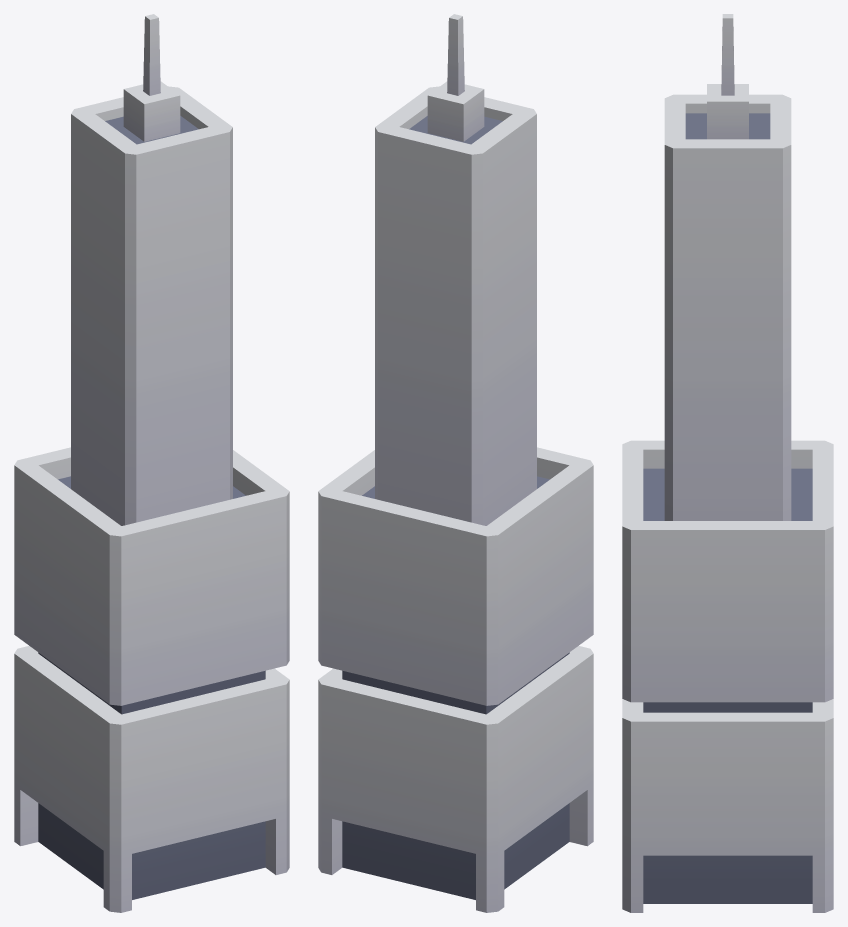
File: commercial__low-detail-building-b.glb
The picture shows the model from 3 angles, left to right: view 1: azimuth 30°, elevation 25°; view 2: azimuth 150°, elevation 25°; view 3: azimuth 270°, elevation 25°; orthographic projection.
Visible parts, largest first — view 1: low-detail-building-b; view 2: low-detail-building-b; view 3: low-detail-building-b.
Boxes of the visible parts, bbox=[...] form: low-detail-building-b: bbox=[14, 14, 289, 912]; low-detail-building-b: bbox=[318, 14, 593, 912]; low-detail-building-b: bbox=[622, 14, 833, 912].
Bounding box in the file's own units: 0.5 × 2.23 × 0.5.
1 material, 1 textured.
